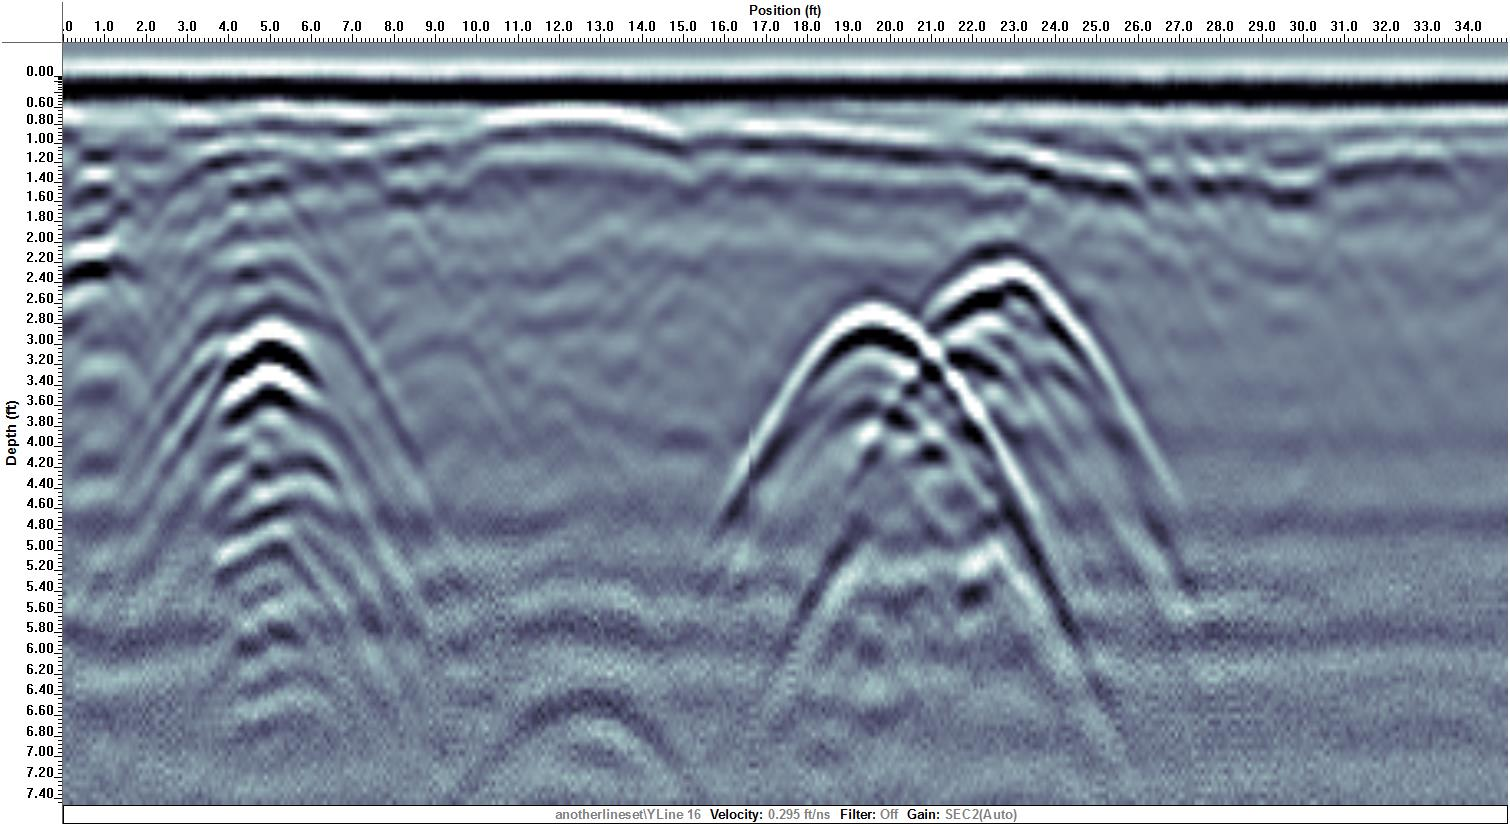hyperbola: (715, 287, 988, 535), (918, 237, 1097, 469)
